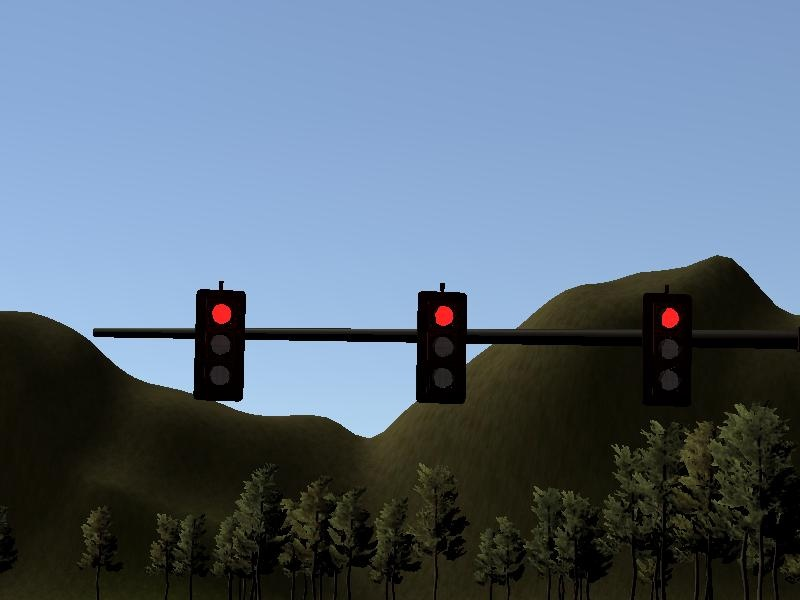traffic_light_red: (155, 278, 717, 407)
